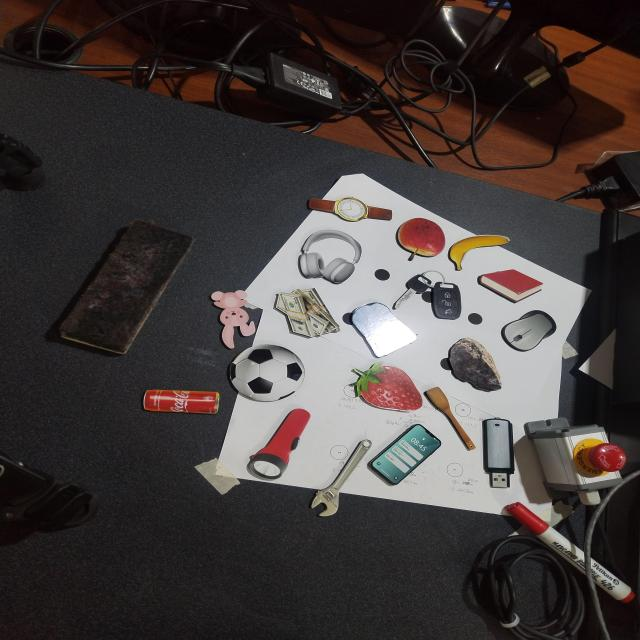Other Objects: (218, 336, 316, 410), (242, 402, 313, 484), (339, 296, 420, 360), (309, 438, 372, 517), (266, 282, 342, 346), (391, 265, 473, 323), (267, 282, 341, 346), (367, 423, 441, 485), (422, 386, 480, 453), (493, 304, 563, 356), (296, 229, 362, 284), (447, 337, 502, 392), (209, 289, 257, 349), (480, 417, 516, 489), (447, 235, 510, 271), (395, 217, 446, 261), (307, 197, 392, 222), (142, 389, 220, 414)
